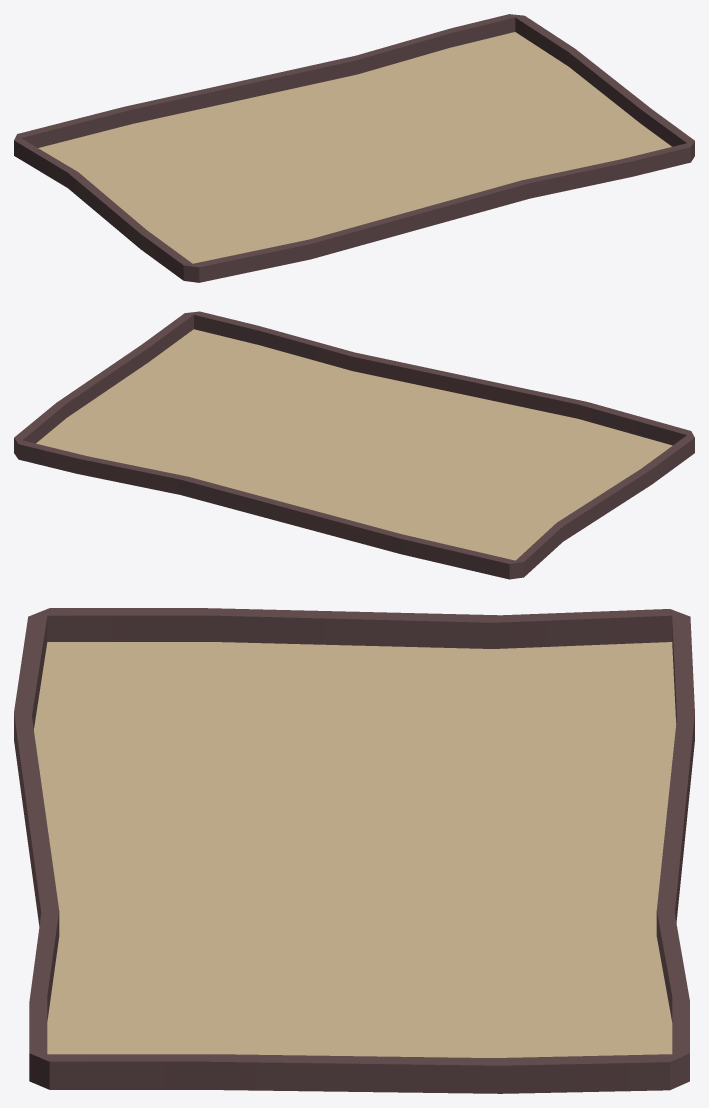
Rendered from Training Sand.FBX.
3 views of the same model, one above another, from view 1: azimuth 30°, elevation 25°; view 2: azimuth 150°, elevation 25°; view 3: azimuth 270°, elevation 25° (orthographic). The views are drawn at different scales.
Parts seen in each view (by area): view 1: Training sand; view 2: Training sand; view 3: Training sand.
Part boxes in pixels (box(x1,y1,x2,y2)): Training sand: box(14, 14, 694, 282); Training sand: box(14, 311, 694, 579); Training sand: box(14, 608, 694, 1093).
Bounding box in the file's own units: 69.1 × 1.98 × 43.46.
Materials: 1 (1 with a texture image).
